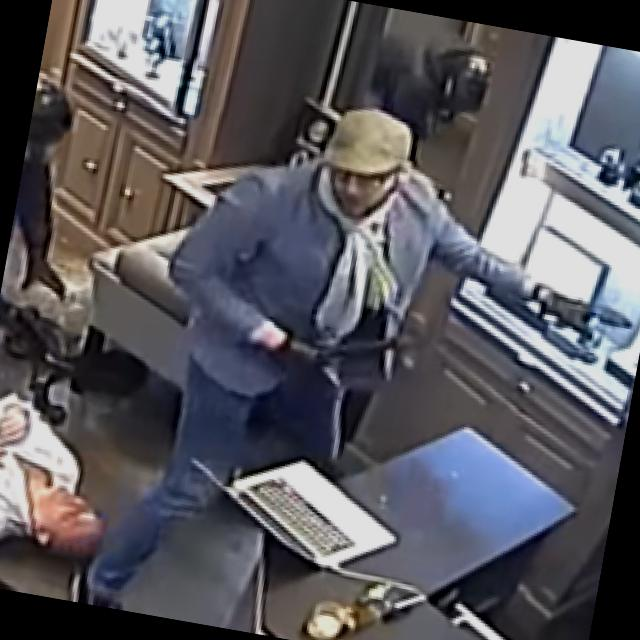person: (94, 75, 621, 640), (0, 69, 101, 323), (0, 385, 126, 573), (356, 18, 496, 176)
